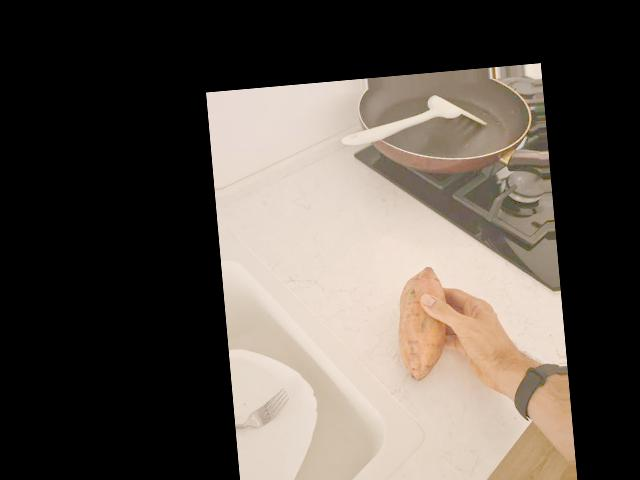sweet_potato: (398, 269, 454, 382)
